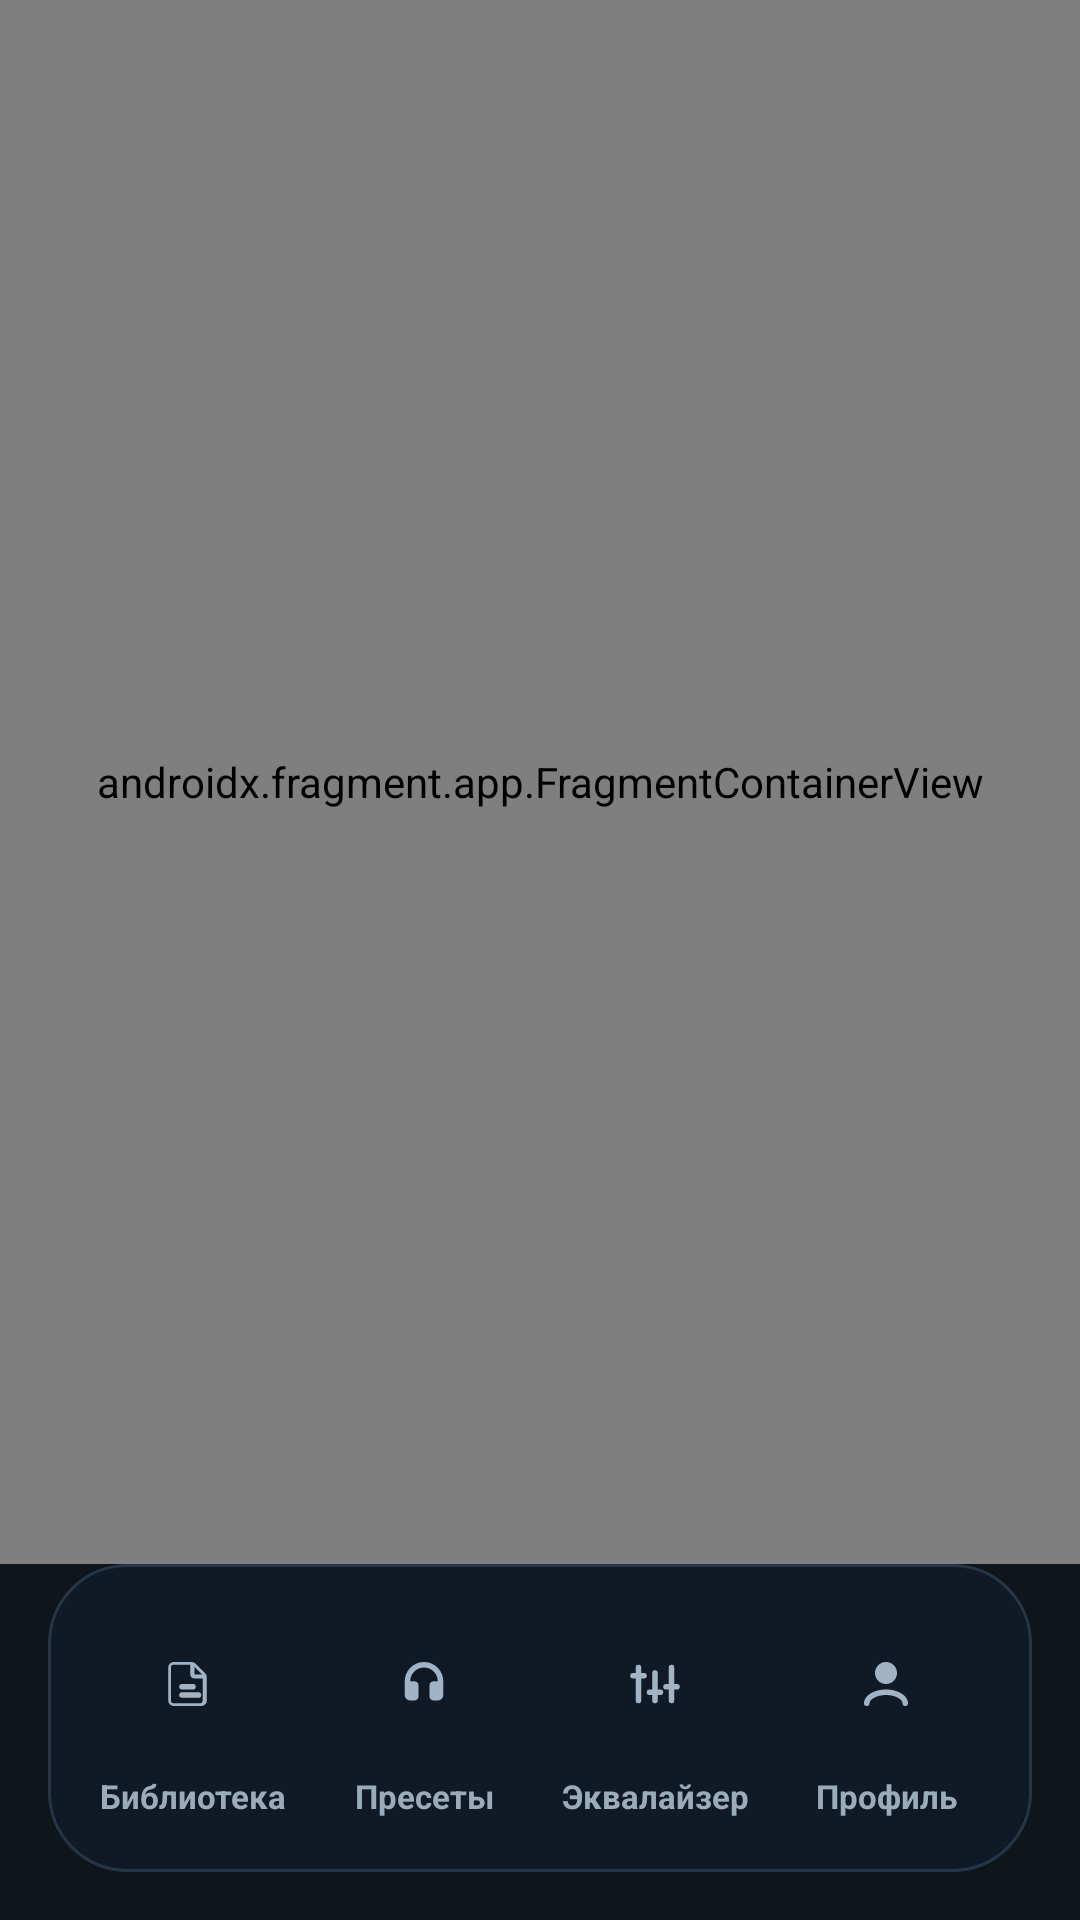

Screen size 1080 x 1920. Icon name, then its center in pixels as [x,y]:
equalizer minimal: [655,1684]
headphones minimal: [424,1681]
profile minimal: [886,1684]
